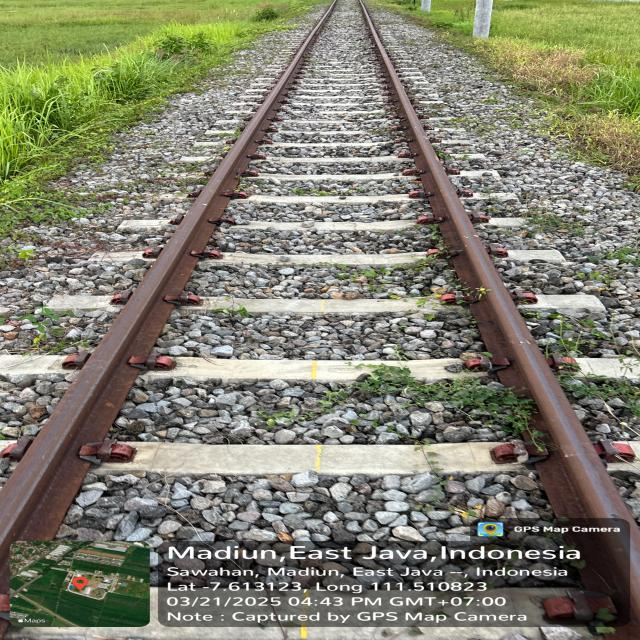rail-detection: (0, 2, 337, 565), (358, 0, 628, 520), (584, 534, 640, 610)
